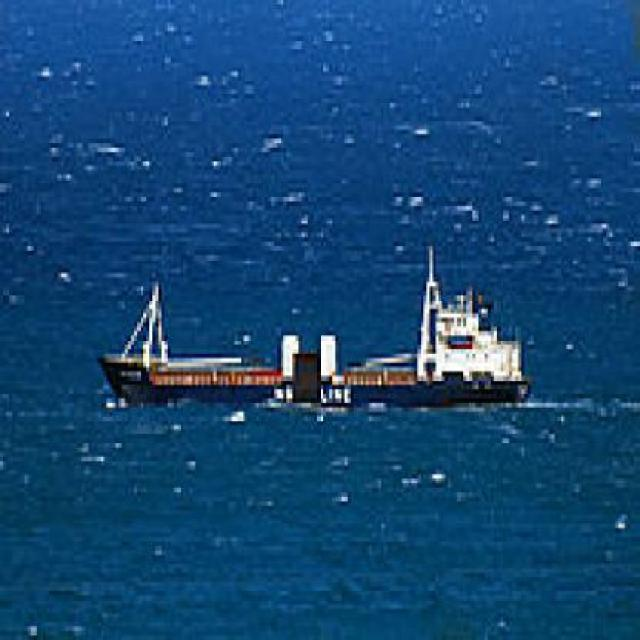container: (96, 274, 534, 417)
